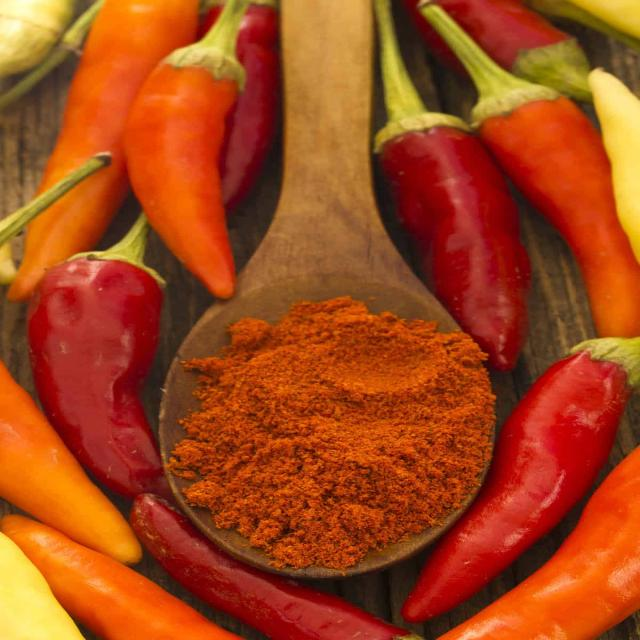Chilli Pepper: (416, 314, 632, 620), (5, 194, 208, 519), (350, 32, 550, 347), (117, 4, 280, 295)
Paprika: (178, 286, 506, 580)
